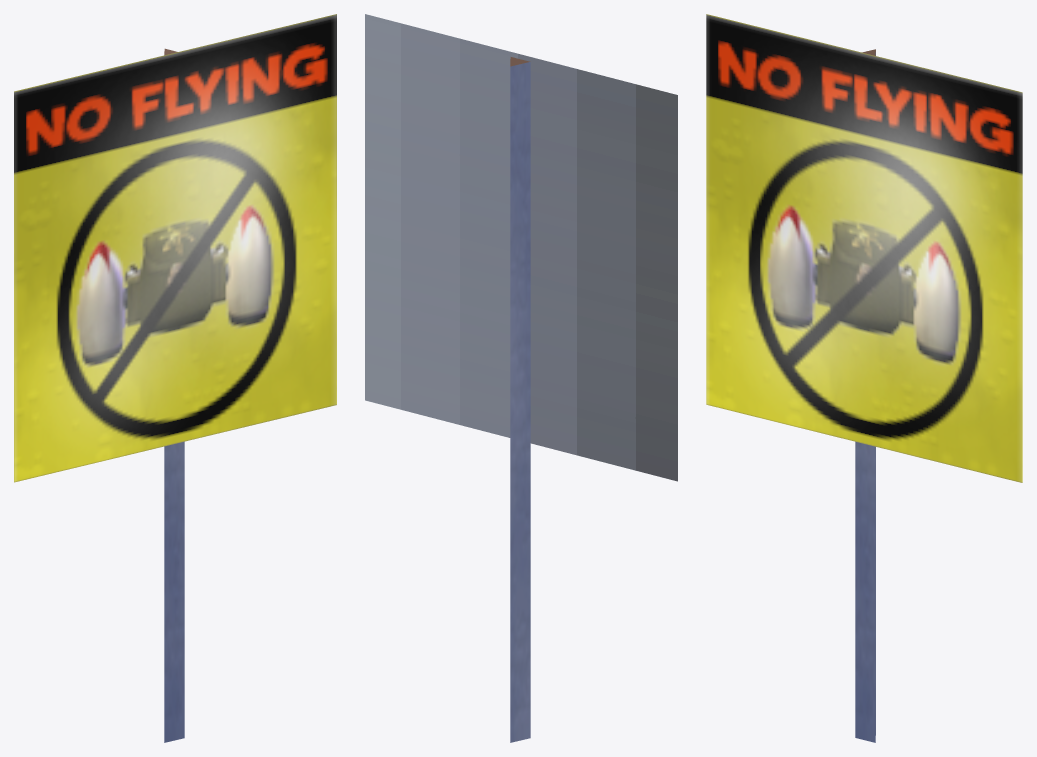
Rendered from noflysign02.glb.
3 views of the same model, side by side, from view 1: azimuth 30°, elevation 25°; view 2: azimuth 150°, elevation 25°; view 3: azimuth 330°, elevation 25° (orthographic).
Parts seen in each view (by area): view 1: noflysign02; view 2: noflysign02; view 3: noflysign02.
Part boxes in pixels (x1,y1,x2,y2): noflysign02: [14, 14, 336, 742]; noflysign02: [365, 14, 677, 742]; noflysign02: [706, 14, 1022, 742].
Bounding box in the file's own units: 204 × 421 × 14.09.
Materials: 5 (5 with a texture image).
